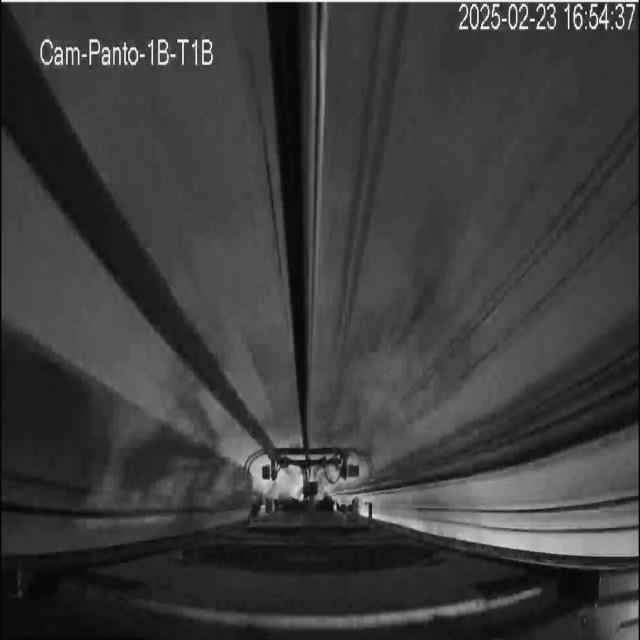Camera Stamp: (38, 35, 218, 69)
Date Stamp: (458, 3, 636, 33)
